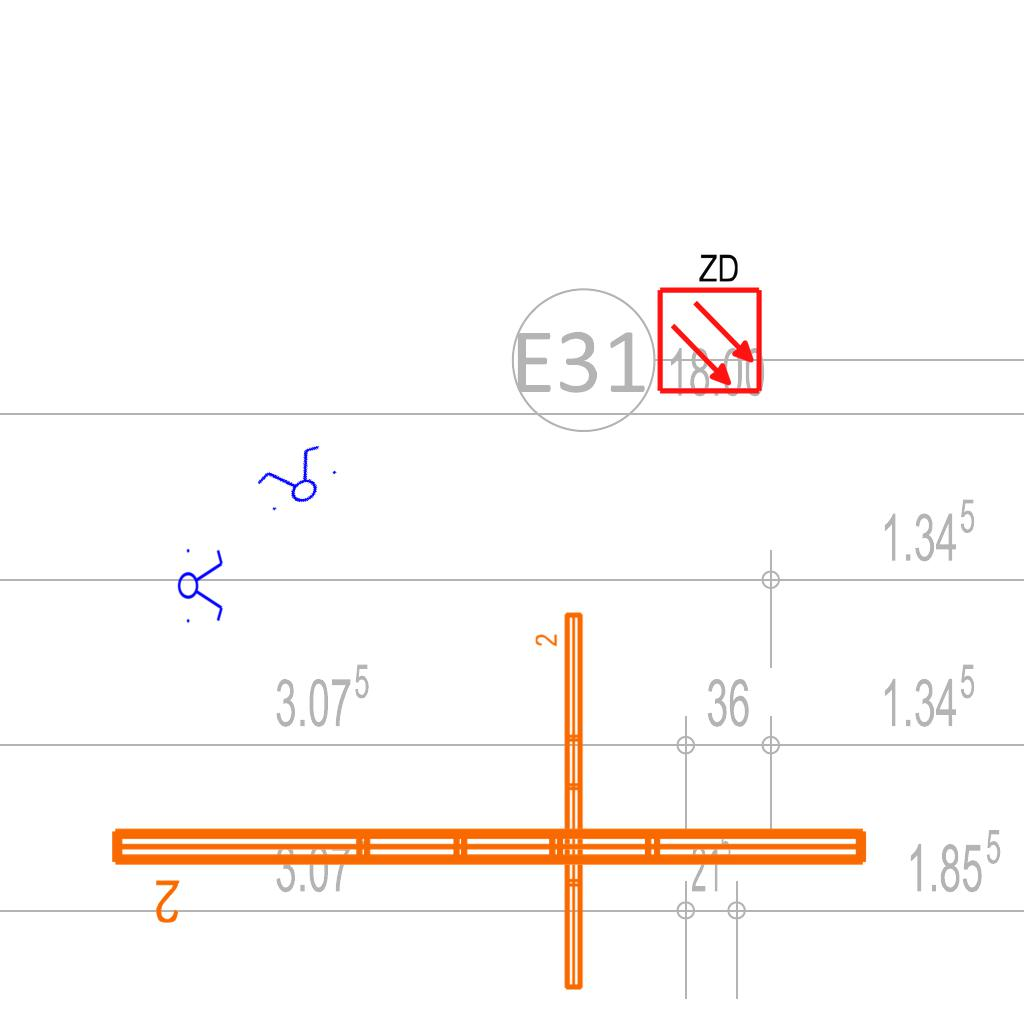Ambulanz_Pendelleuchte_LED: (103, 816, 877, 928), (533, 608, 589, 995)
Serienschalter: (248, 437, 346, 523), (177, 543, 225, 627)
ZD_Melder_in_Zwischendecke_mit_Revisionsoeffnung_mind_40_x_40_cm: (651, 247, 765, 396)
